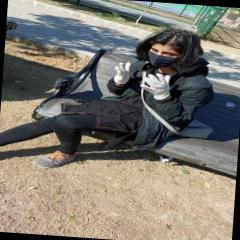gloved: (140, 74, 172, 98), (112, 60, 133, 85)
